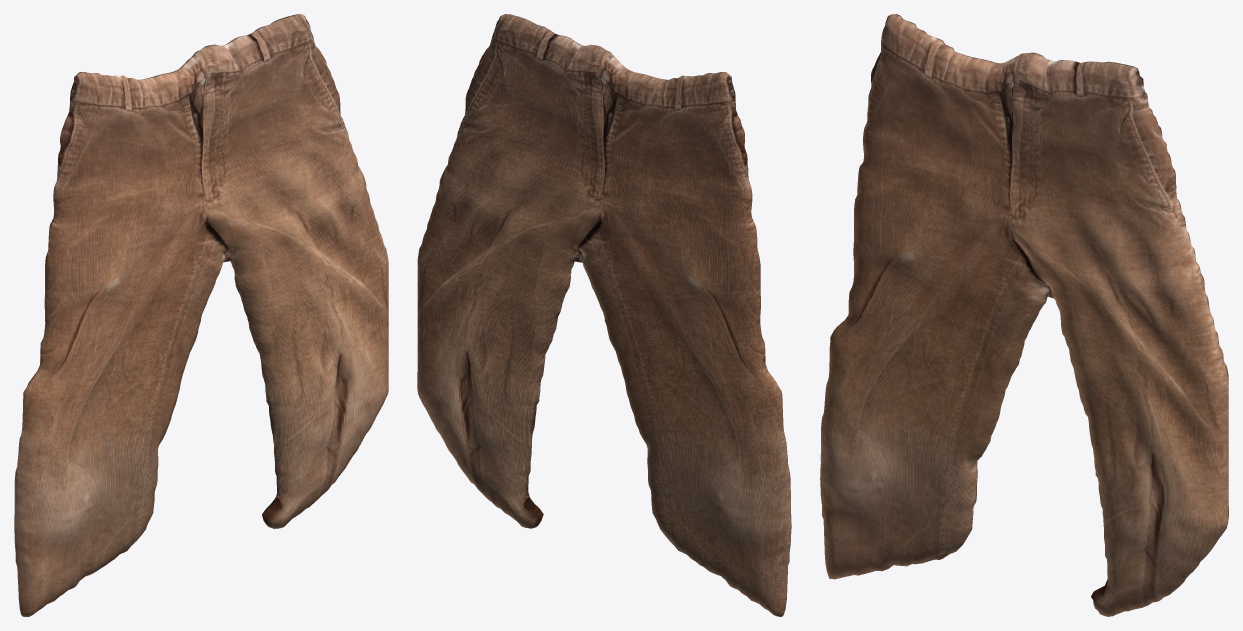
Rendered from brown-corduroy.glb.
3 views of the same model, side by side, from view 1: azimuth 30°, elevation 25°; view 2: azimuth 150°, elevation 25°; view 3: azimuth 330°, elevation 25° (orthographic). The views are drawn at different scales.
Visible parts, largest first — view 1: brown-corduroy; view 2: brown-corduroy; view 3: brown-corduroy.
Part boxes in pixels (x1,y1,x2,y2): brown-corduroy: [14, 14, 388, 616]; brown-corduroy: [417, 14, 791, 616]; brown-corduroy: [820, 14, 1228, 616].
Bounding box in the file's own units: 0.721 × 0.99 × 0.0709.
1 material, 1 textured.
